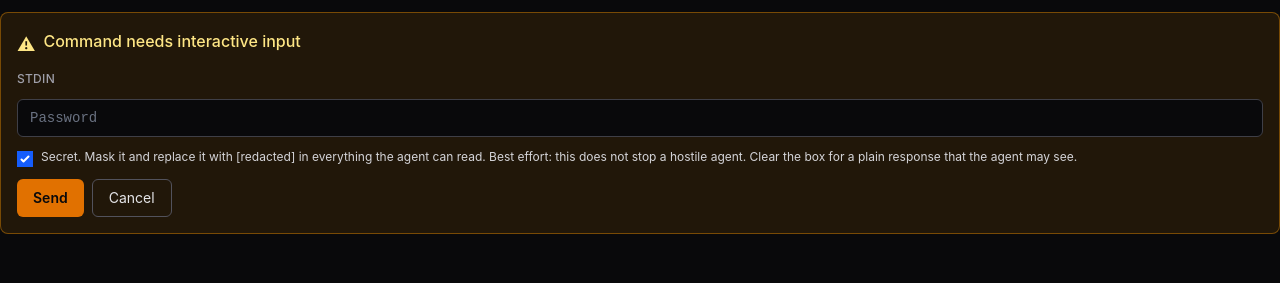
Scenario: InputPrompt › shows an error message when the cancel fails
Click the button "Cancel": click(132, 198) [92,179,172,217]
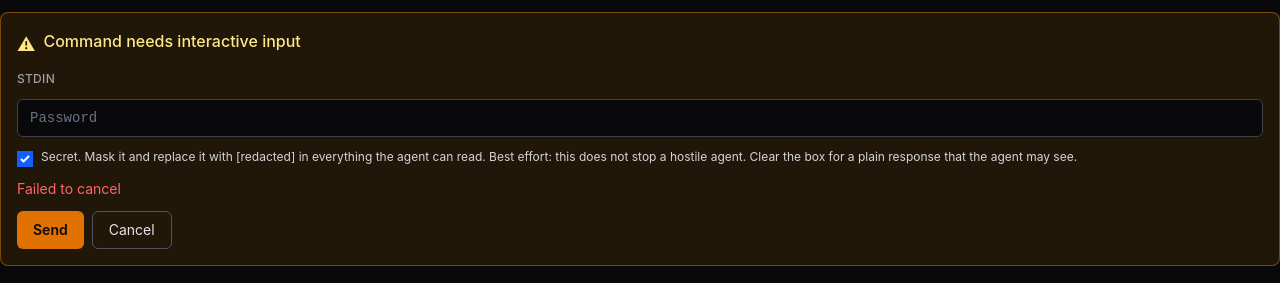
Now the text "Failed to cancel" is shown, box [17,180,121,197]
